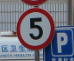speed_limit_5: (17, 7, 54, 49)
